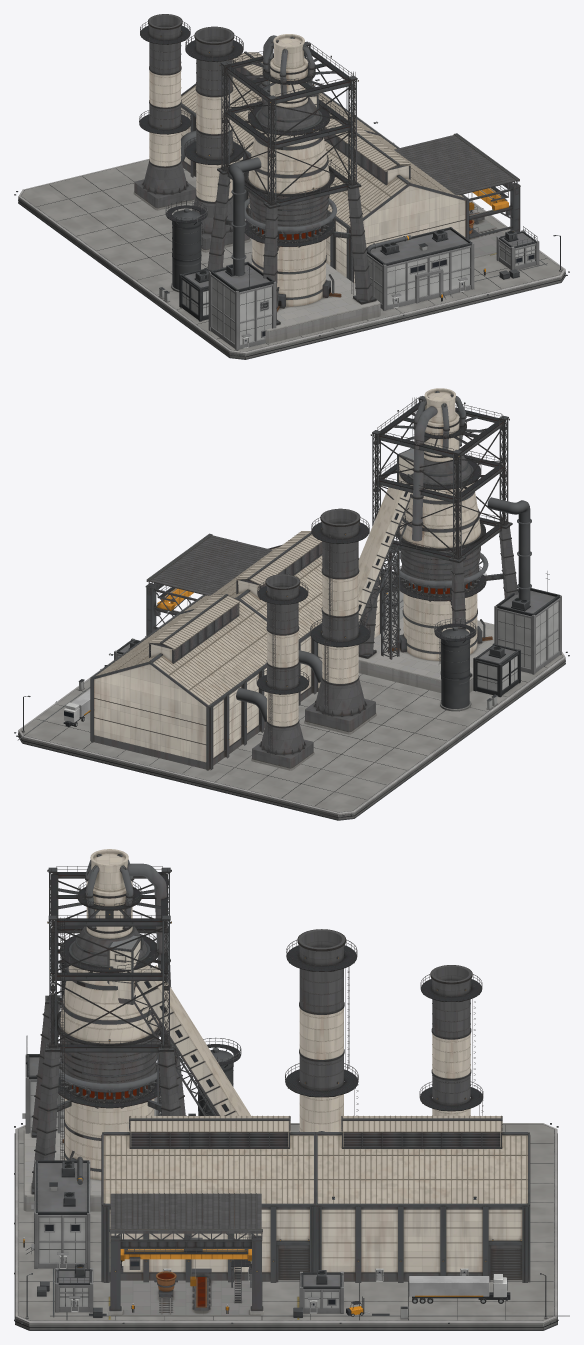
The model's file is steel_mill.glb.
3 views of the same model, one above another, from view 1: azimuth 30°, elevation 25°; view 2: azimuth 150°, elevation 25°; view 3: azimuth 270°, elevation 25° (orthographic). The views are drawn at different scales.
Visible parts, largest first — view 1: hull, parts_colony-blastFurnace, parts_colony-bandedStack, parts_colony-shedSegment, parts_colony-pourBay; view 2: hull, parts_colony-shedSegment, parts_colony-blastFurnace, parts_colony-bandedStack, parts_colony-skipGallery, parts_colony-pourBay, parts_yard-truck; view 3: parts_colony-shedSegment, hull, parts_colony-blastFurnace, parts_colony-bandedStack, parts_colony-pourBay, parts_colony-skipGallery, parts_yard-truck.
Part boxes in pixels (x1=…): hull: x1=14, y1=79, x2=569, y2=359; parts_colony-blastFurnace: x1=207, y1=34, x2=380, y2=343; parts_colony-bandedStack: x1=133, y1=14, x2=250, y2=252; parts_colony-shedSegment: x1=181, y1=51, x2=469, y2=283; parts_colony-pourBay: x1=394, y1=133, x2=520, y2=258; hull: x1=14, y1=497, x2=569, y2=820; parts_colony-shedSegment: x1=90, y1=531, x2=385, y2=770; parts_colony-blastFurnace: x1=358, y1=388, x2=518, y2=692; parts_colony-bandedStack: x1=251, y1=508, x2=376, y2=770; parts_colony-skipGallery: x1=316, y1=448, x2=413, y2=691; parts_colony-pourBay: x1=145, y1=533, x2=272, y2=636; parts_yard-truck: x1=63, y1=689, x2=90, y2=726; parts_colony-shedSegment: x1=101, y1=1115, x2=530, y2=1282; hull: x1=14, y1=951, x2=569, y2=1330; parts_colony-blastFurnace: x1=23, y1=849, x2=186, y2=1211; parts_colony-bandedStack: x1=285, y1=929, x2=483, y2=1131; parts_colony-pourBay: x1=108, y1=1193, x2=263, y2=1315; parts_colony-skipGallery: x1=107, y1=935, x2=250, y2=1115; parts_yard-truck: x1=409, y1=1274, x2=510, y2=1303.
Bounding box in the file's own units: 80.42 × 61.88 × 94.32.
Materials: 11 (11 with a texture image).
